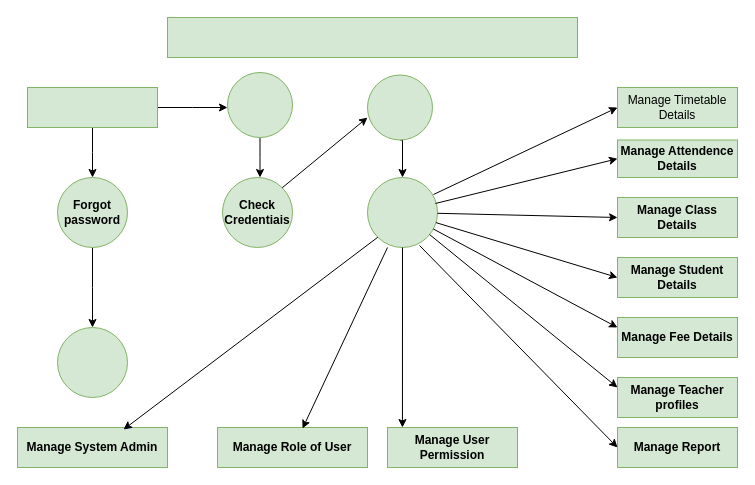
This 755x485 diagram has some shape labels left out. The shapes that lost their labels are listed below. From the top down, each one's box as (x1, y1, x2, y2) in pixels, then its label:
(166, 16, 578, 58): Student Information System
(26, 86, 158, 128): Admin
(226, 72, 292, 138): Login to System
(366, 74, 432, 140): Check Roles of Acess
(366, 176, 438, 248): Mange modules
(56, 326, 128, 398): Send Email to user
